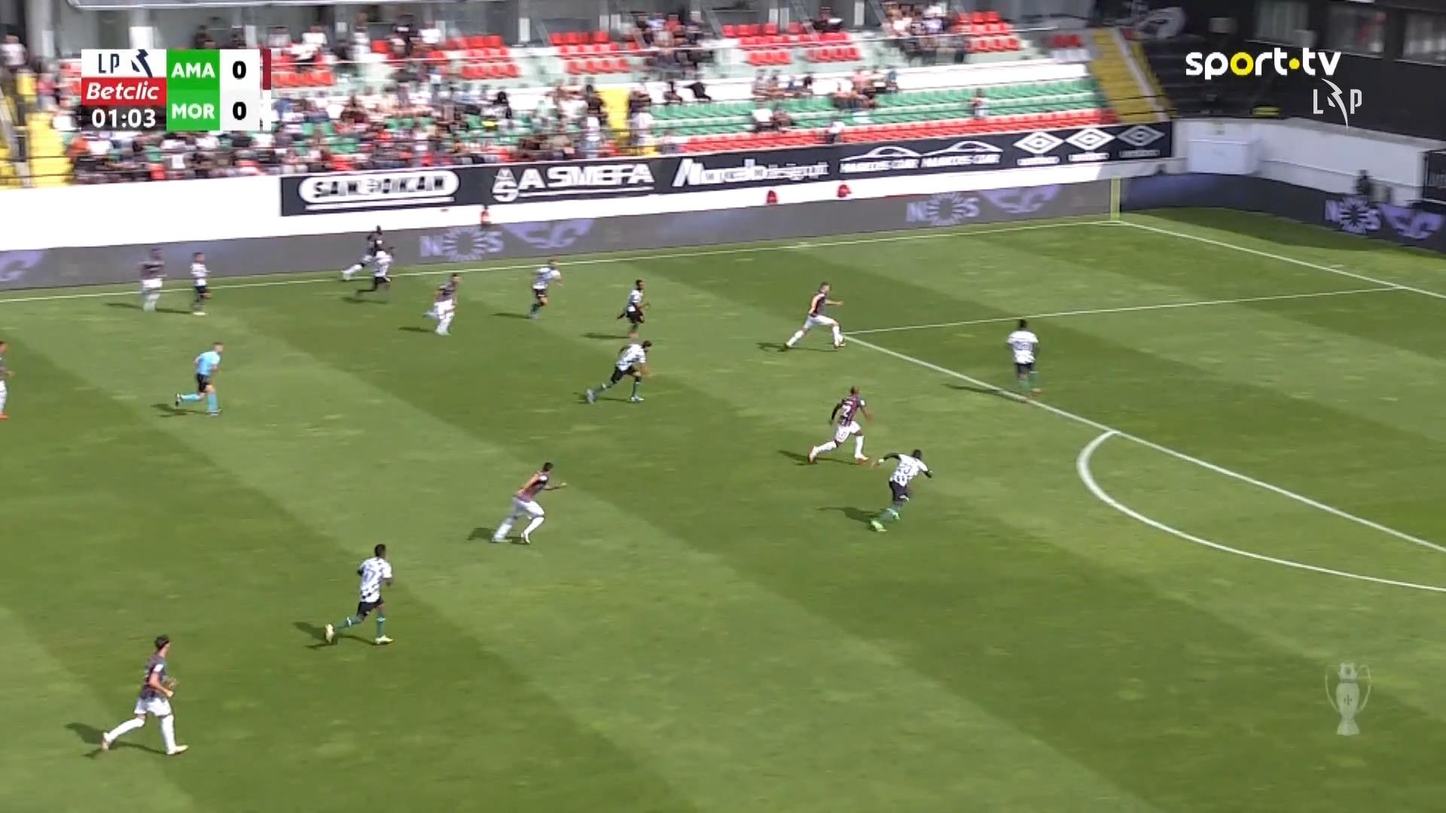ball: (837, 184, 850, 197), (834, 333, 844, 342)
player: (99, 633, 188, 756), (323, 542, 394, 645), (490, 461, 567, 544), (868, 447, 932, 533), (807, 385, 874, 464), (584, 334, 653, 403), (780, 281, 846, 351), (1005, 317, 1042, 394), (422, 271, 461, 335), (341, 225, 382, 280), (527, 258, 562, 319), (615, 278, 648, 336), (137, 246, 166, 312), (357, 246, 395, 293), (188, 250, 212, 315), (0, 340, 14, 419)
referee: (173, 340, 224, 416)
